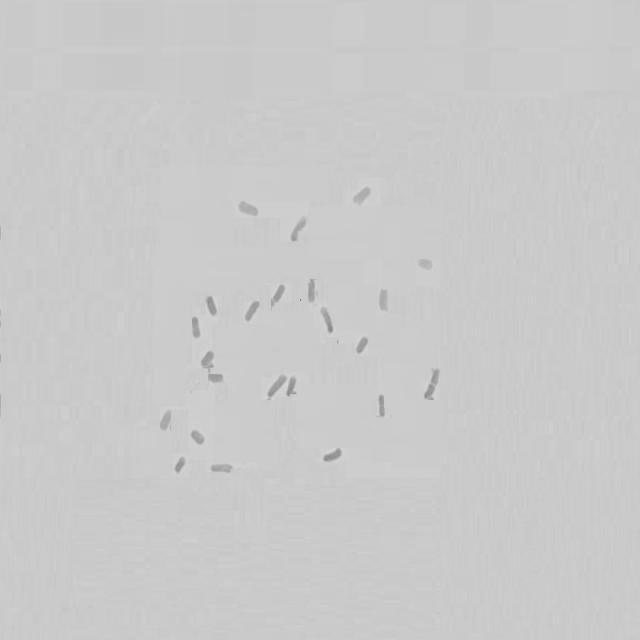E-coli: (289, 213, 310, 246), (264, 372, 286, 402), (351, 181, 373, 209), (424, 367, 442, 401), (234, 199, 263, 219), (353, 331, 371, 361), (375, 389, 391, 422), (304, 276, 320, 309), (415, 254, 439, 275), (318, 445, 346, 463), (322, 306, 336, 338), (244, 296, 260, 322), (272, 283, 288, 308), (377, 286, 391, 314), (157, 408, 173, 432), (211, 462, 237, 476), (286, 376, 300, 401), (172, 456, 190, 474), (200, 347, 215, 367), (189, 315, 201, 339), (206, 296, 218, 320), (187, 431, 209, 444), (209, 370, 223, 388)
